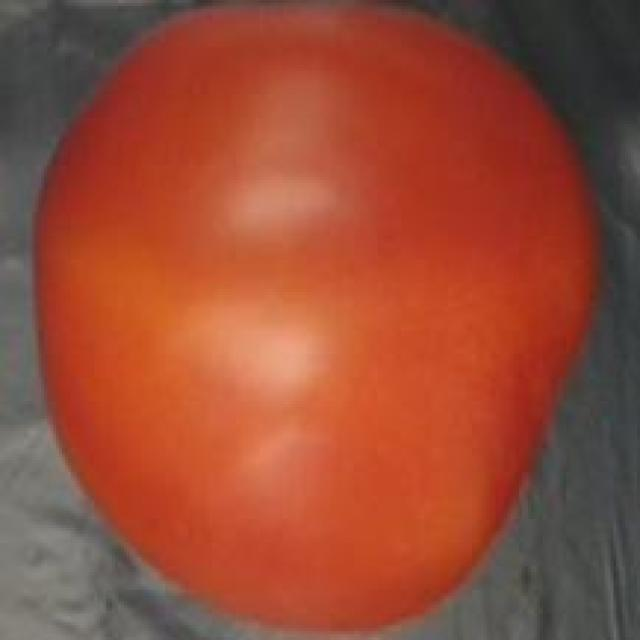ripe tomato: (21, 0, 619, 640)
